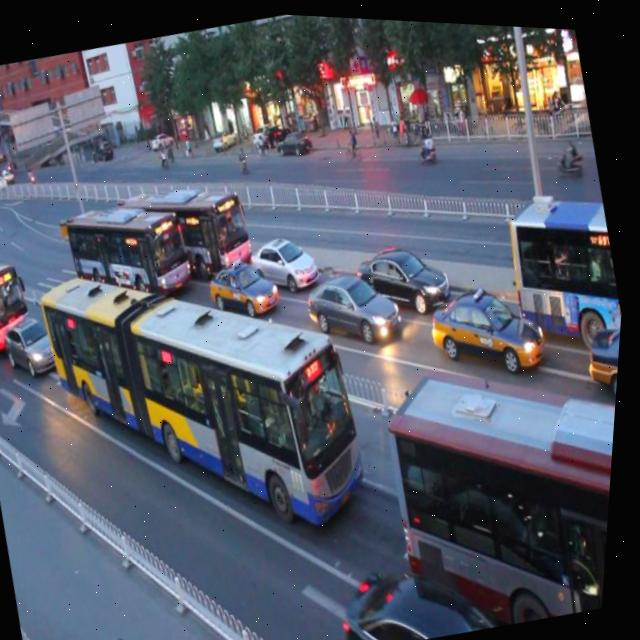car: (338, 535, 519, 640), (423, 262, 557, 388), (298, 250, 408, 354), (353, 224, 459, 319), (201, 241, 286, 324), (243, 216, 325, 298), (1, 304, 74, 381), (581, 304, 625, 394)
van: (22, 209, 393, 574), (371, 320, 624, 640), (494, 170, 632, 349), (57, 177, 203, 321), (116, 158, 263, 294), (0, 235, 40, 347)
